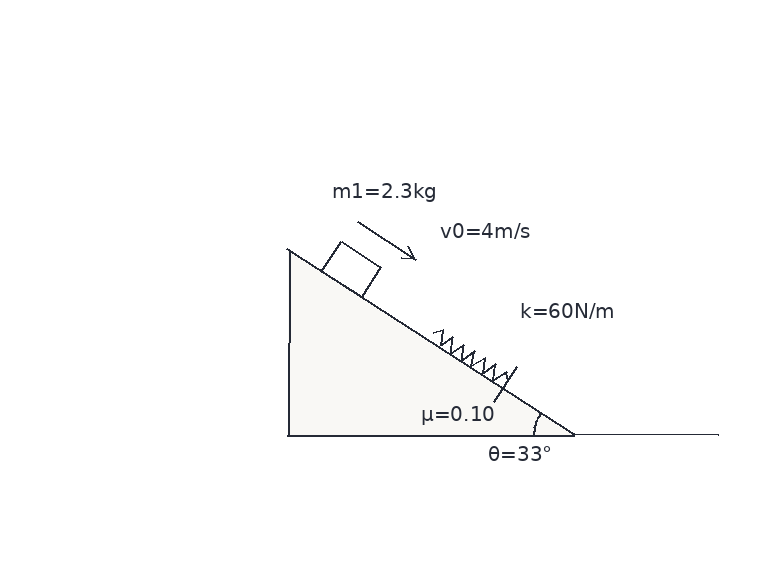block: (319, 238, 383, 299)
ramp: (286, 247, 576, 437)
spring: (431, 328, 509, 383)
